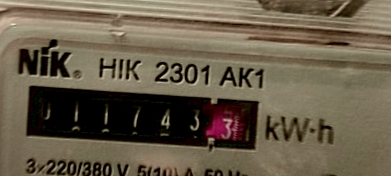0: (37, 94, 53, 122)
1: (98, 97, 111, 126), (69, 95, 80, 123)
3: (187, 105, 202, 133), (217, 115, 233, 141)
4: (157, 103, 172, 131)
7: (127, 99, 143, 127)
screen: (14, 74, 270, 161)
